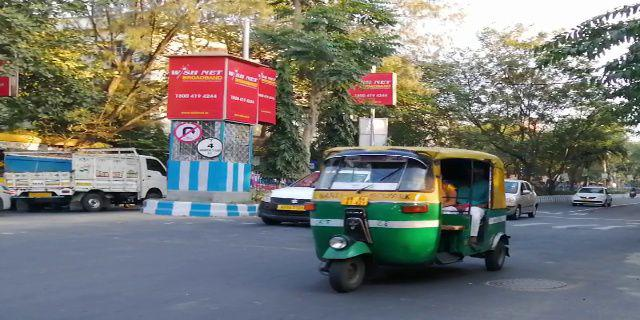Autorickshaw: (310, 140, 514, 298)
Car: (256, 161, 311, 231), (503, 178, 544, 222), (571, 180, 614, 211)
Truck: (2, 142, 170, 214)
